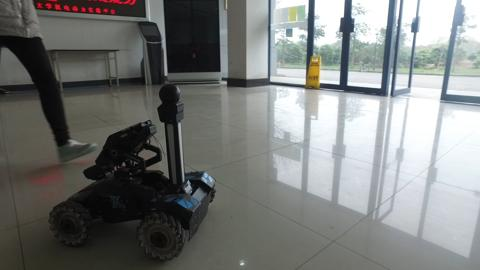chariot: (38, 81, 229, 264)
